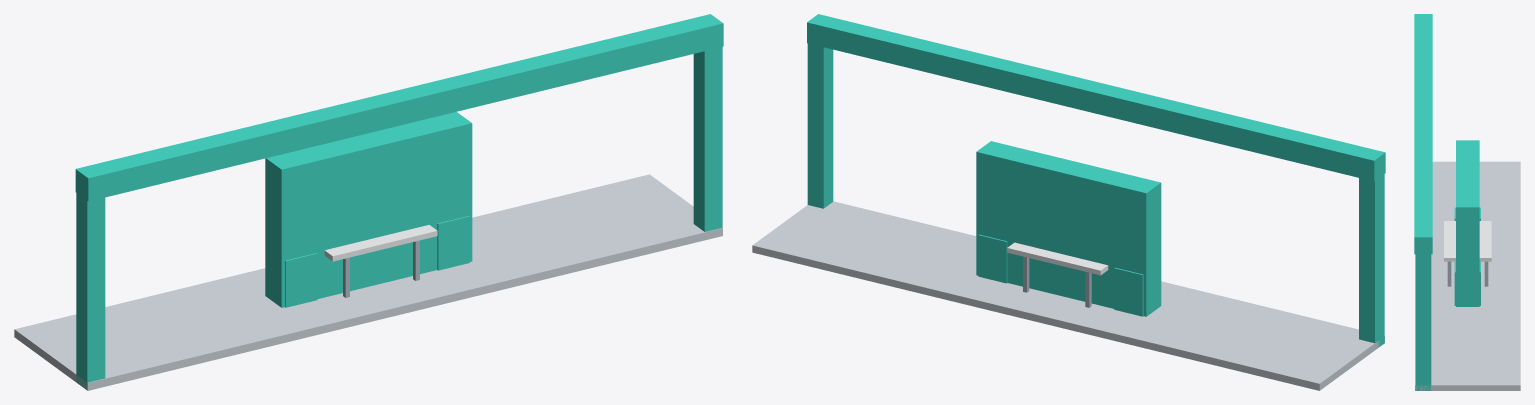
3 views of the same model, side by side, from view 1: azimuth 30°, elevation 25°; view 2: azimuth 150°, elevation 25°; view 3: azimuth 270°, elevation 25° (orthographic). The views are drawn at different scales.
Parts seen in each view (by area): view 1: Exhibition Booth Concept; view 2: Exhibition Booth Concept; view 3: Exhibition Booth Concept.
Part boxes in pixels (bbox=[...]): Exhibition Booth Concept: bbox=[14, 14, 723, 390]; Exhibition Booth Concept: bbox=[752, 14, 1385, 390]; Exhibition Booth Concept: bbox=[1414, 14, 1520, 390].
Bounding box in the file's own units: 10 × 3.2 × 2.01.
